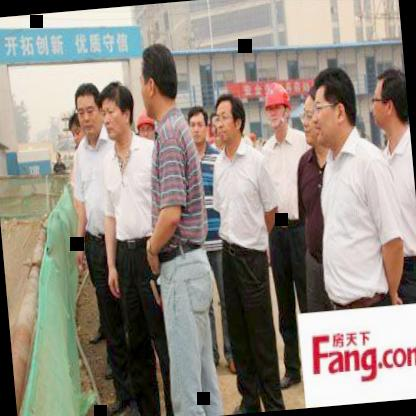head: (304, 63, 360, 152), (133, 38, 182, 122), (370, 65, 411, 144), (210, 87, 248, 149), (100, 81, 136, 145), (297, 84, 328, 154), (72, 78, 106, 139), (184, 103, 210, 149)
helmet: (260, 80, 294, 137)
